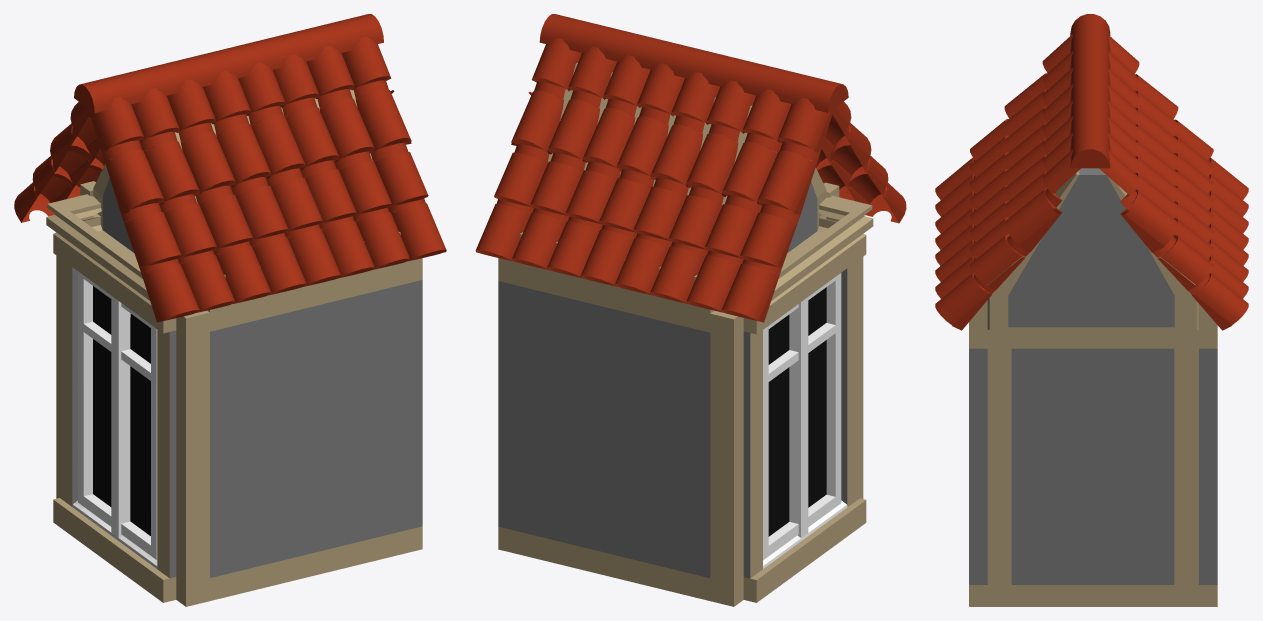
File: WindowForRoof.fbx
3 views of the same model, side by side, from view 1: azimuth 30°, elevation 25°; view 2: azimuth 150°, elevation 25°; view 3: azimuth 270°, elevation 25° (orthographic). The views are drawn at different scales.
Parts seen in each view (by area): view 1: RoofWindow1; view 2: RoofWindow1; view 3: RoofWindow1.
Boxes of the visible parts, x1,y1,x2,y2 form: RoofWindow1: [14, 14, 446, 606]; RoofWindow1: [475, 14, 906, 606]; RoofWindow1: [935, 14, 1248, 606].
Bounding box in the file's own units: 60.05 × 95.45 × 58.43.
